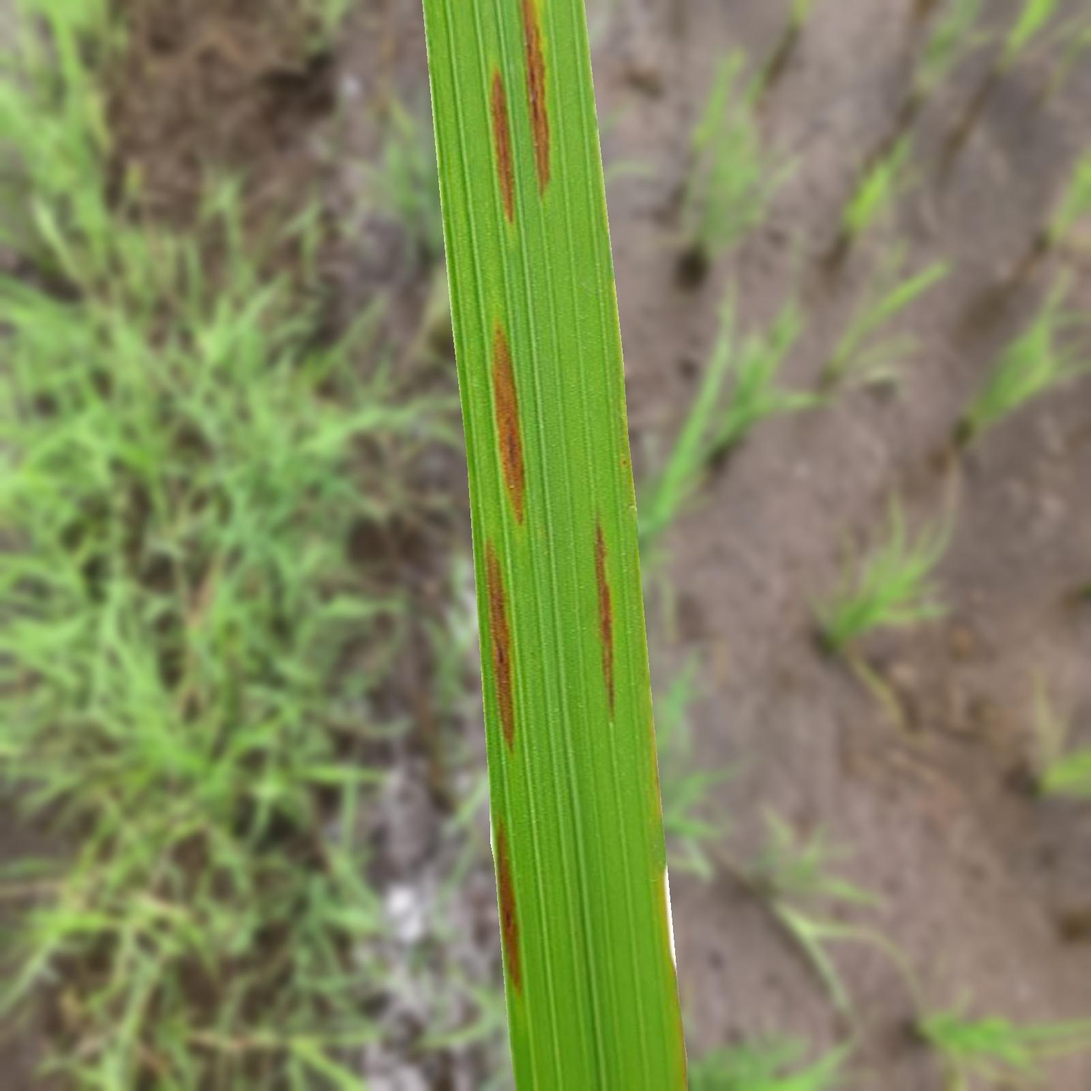LEAF: (422, 0, 687, 1090)
NBS: (492, 325, 524, 522), (486, 542, 515, 749), (520, 0, 550, 194), (496, 826, 522, 991), (595, 520, 614, 716), (490, 70, 513, 222)
